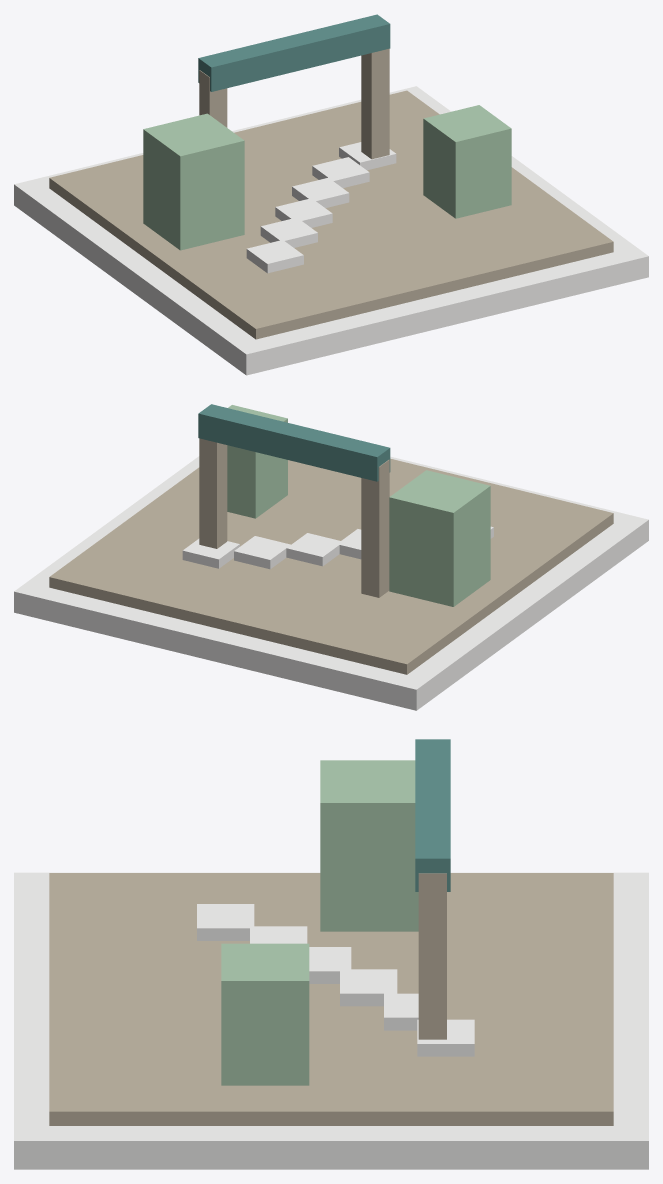
Rendered from trail.gltf.
3 views of the same model, one above another, from view 1: azimuth 30°, elevation 25°; view 2: azimuth 150°, elevation 25°; view 3: azimuth 270°, elevation 25° (orthographic). The views are drawn at different scales.
Visible parts, largest first — view 1: trail_1, trail_0, trail_11, trail_12, trail_10, trail_9, trail_2, trail_6, trail_3, trail_5, trail_4, trail_8 (+1 smaller); view 2: trail_1, trail_0, trail_11, trail_10, trail_12, trail_8, trail_9, trail_5, trail_6, trail_7, trail_4; view 3: trail_1, trail_0, trail_11, trail_12, trail_10, trail_9, trail_2, trail_5, trail_7, trail_4, trail_6, trail_3.
Part boxes in pixels (x1,y1,x2,y2): trail_1: [49, 90, 613, 339]; trail_0: [14, 86, 648, 375]; trail_11: [143, 113, 244, 250]; trail_12: [423, 105, 511, 218]; trail_10: [198, 14, 390, 91]; trail_9: [361, 48, 389, 159]; trail_2: [246, 240, 303, 273]; trail_6: [312, 157, 369, 187]; trail_3: [260, 218, 317, 247]; trail_5: [292, 177, 349, 207]; trail_4: [275, 199, 332, 227]; trail_8: [199, 70, 227, 127]; trail_1: [49, 458, 613, 674]; trail_0: [14, 456, 648, 710]; trail_11: [389, 470, 490, 606]; trail_10: [198, 404, 390, 481]; trail_12: [227, 405, 287, 518]; trail_8: [361, 459, 389, 597]; trail_9: [199, 438, 227, 548]; trail_5: [286, 533, 343, 566]; trail_6: [234, 536, 290, 569]; trail_7: [182, 538, 239, 568]; trail_4: [339, 529, 361, 559]; trail_1: [49, 873, 613, 1125]; trail_0: [14, 872, 648, 1169]; trail_11: [320, 760, 418, 931]; trail_12: [221, 943, 309, 1085]; trail_10: [415, 739, 450, 891]; trail_9: [418, 873, 446, 1039]; trail_2: [197, 904, 254, 940]; trail_5: [340, 969, 397, 1006]; trail_7: [417, 1019, 474, 1056]; trail_4: [309, 947, 351, 983]; trail_6: [384, 993, 418, 1030]; trail_3: [250, 926, 307, 943].
Bounding box in the file's own units: 7.2 × 2.96 × 7.2.
